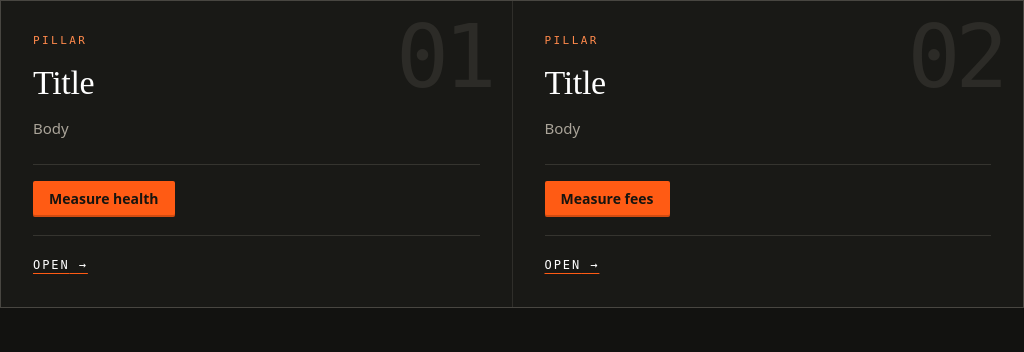
Test case: PillarCards › ignores a second press while measuring
This screenshot has width=1024, height=352.
Click the button "Measure health". click: (104, 199)
box: [33,181,175,217]
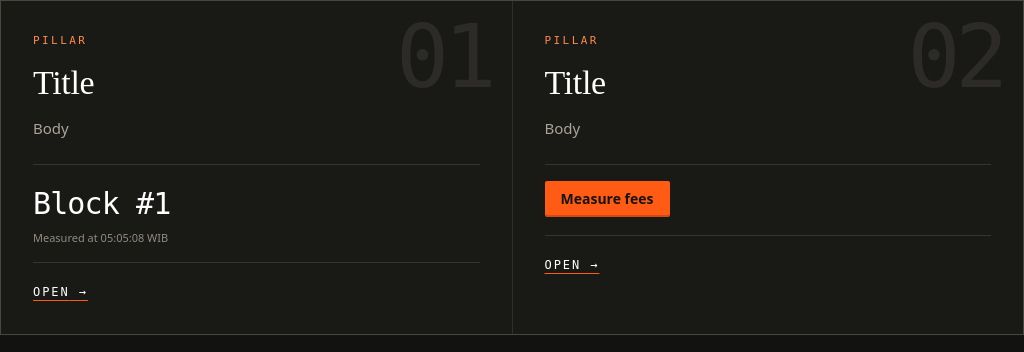
Result: the text "Block #1" is shown at [33,186,170,221]
